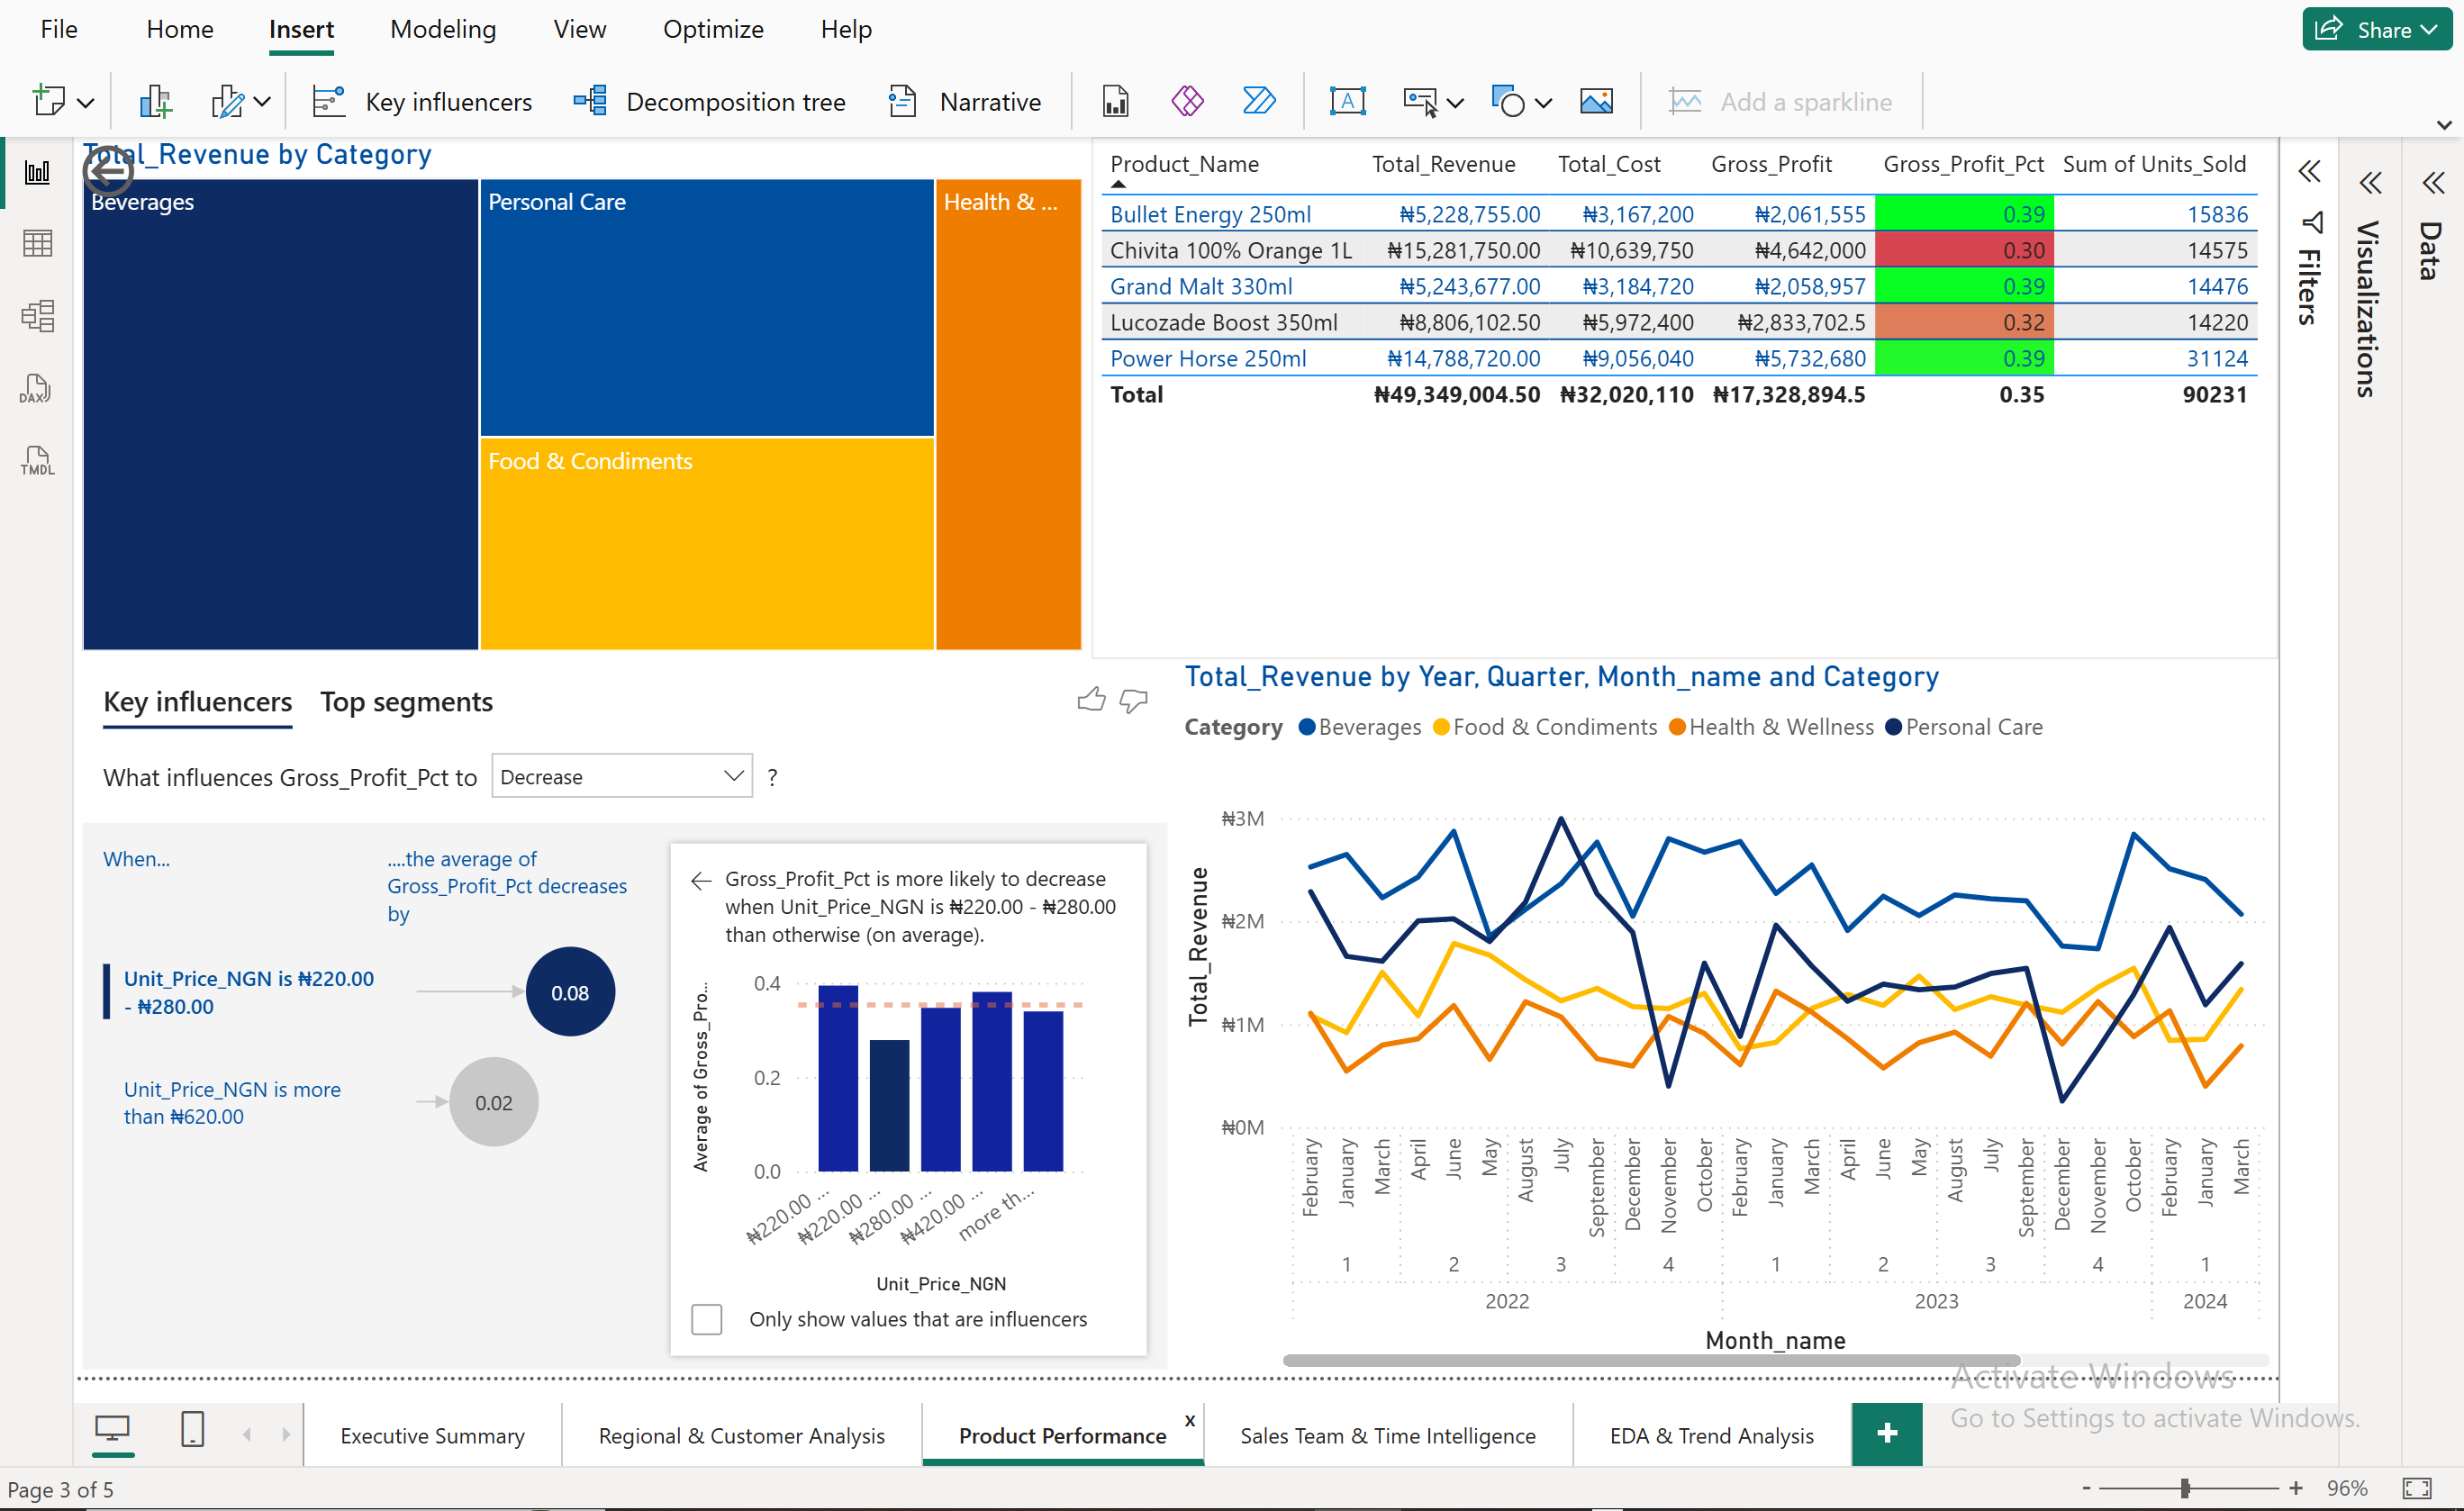

This screenshot's page, from the dashboard's own definition file:
{"tool":"powerbi","page":{"name":"Product Performance","canvas":[1280,720],"ordinal":2},"visuals":[{"type":"treemap","fields":{"Values":["_Measures.Total_Revenue"],"Group":["Products.Category"]},"box":[0,0,590.6,303.5],"z":0},{"type":"tableEx","fields":{"Values":["Products.Product_Name","_Measures.Total_Revenue","_Measures.Total_Cost","_Measures.Gross_Profit","_Measures.Gross_Profit_Pct","Sum(Sales.Units_Sold)"]},"box":[590.6,0,689.4,303.5],"z":1000},{"type":"actionButton","box":[0,0,100,40],"z":2000},{"type":"lineChart","fields":{"Y":["_Measures.Total_Revenue"],"Series":["Products.Category"],"Category":["Date.Date Hierarchy.Year","Date.Date Hierarchy.Quarter","Date.Date Hierarchy.Month_name"]},"box":[640,303.5,640,416.1],"z":3000},{"type":"keyDriversVisual","fields":{"Target":["_Measures.Gross_Profit_Pct"],"ExplainBy":["Products.Category","Sales.Unit_Price_NGN","Customers.City","Customers.Region","Customers.Segment"]},"box":[0,303.5,640,417.5],"z":4000}]}

Visuals, with their boxes on the page's 1280x720 design canvas (x1, y1, x2, y2). These are canvas units, not pixel positions in the 2464x1511 screenshot, which may show the page scaled, cropped or inside an application window:
treemap - _Measures.Total_Revenue x Products.Category: region(0, 0, 591, 304)
tableEx - Products.Product_Name x _Measures.Total_Revenue: region(591, 0, 1280, 304)
actionButton: region(0, 0, 100, 40)
lineChart - _Measures.Total_Revenue x Products.Category: region(640, 304, 1280, 720)
keyDriversVisual - _Measures.Gross_Profit_Pct x Products.Category: region(0, 304, 640, 721)
